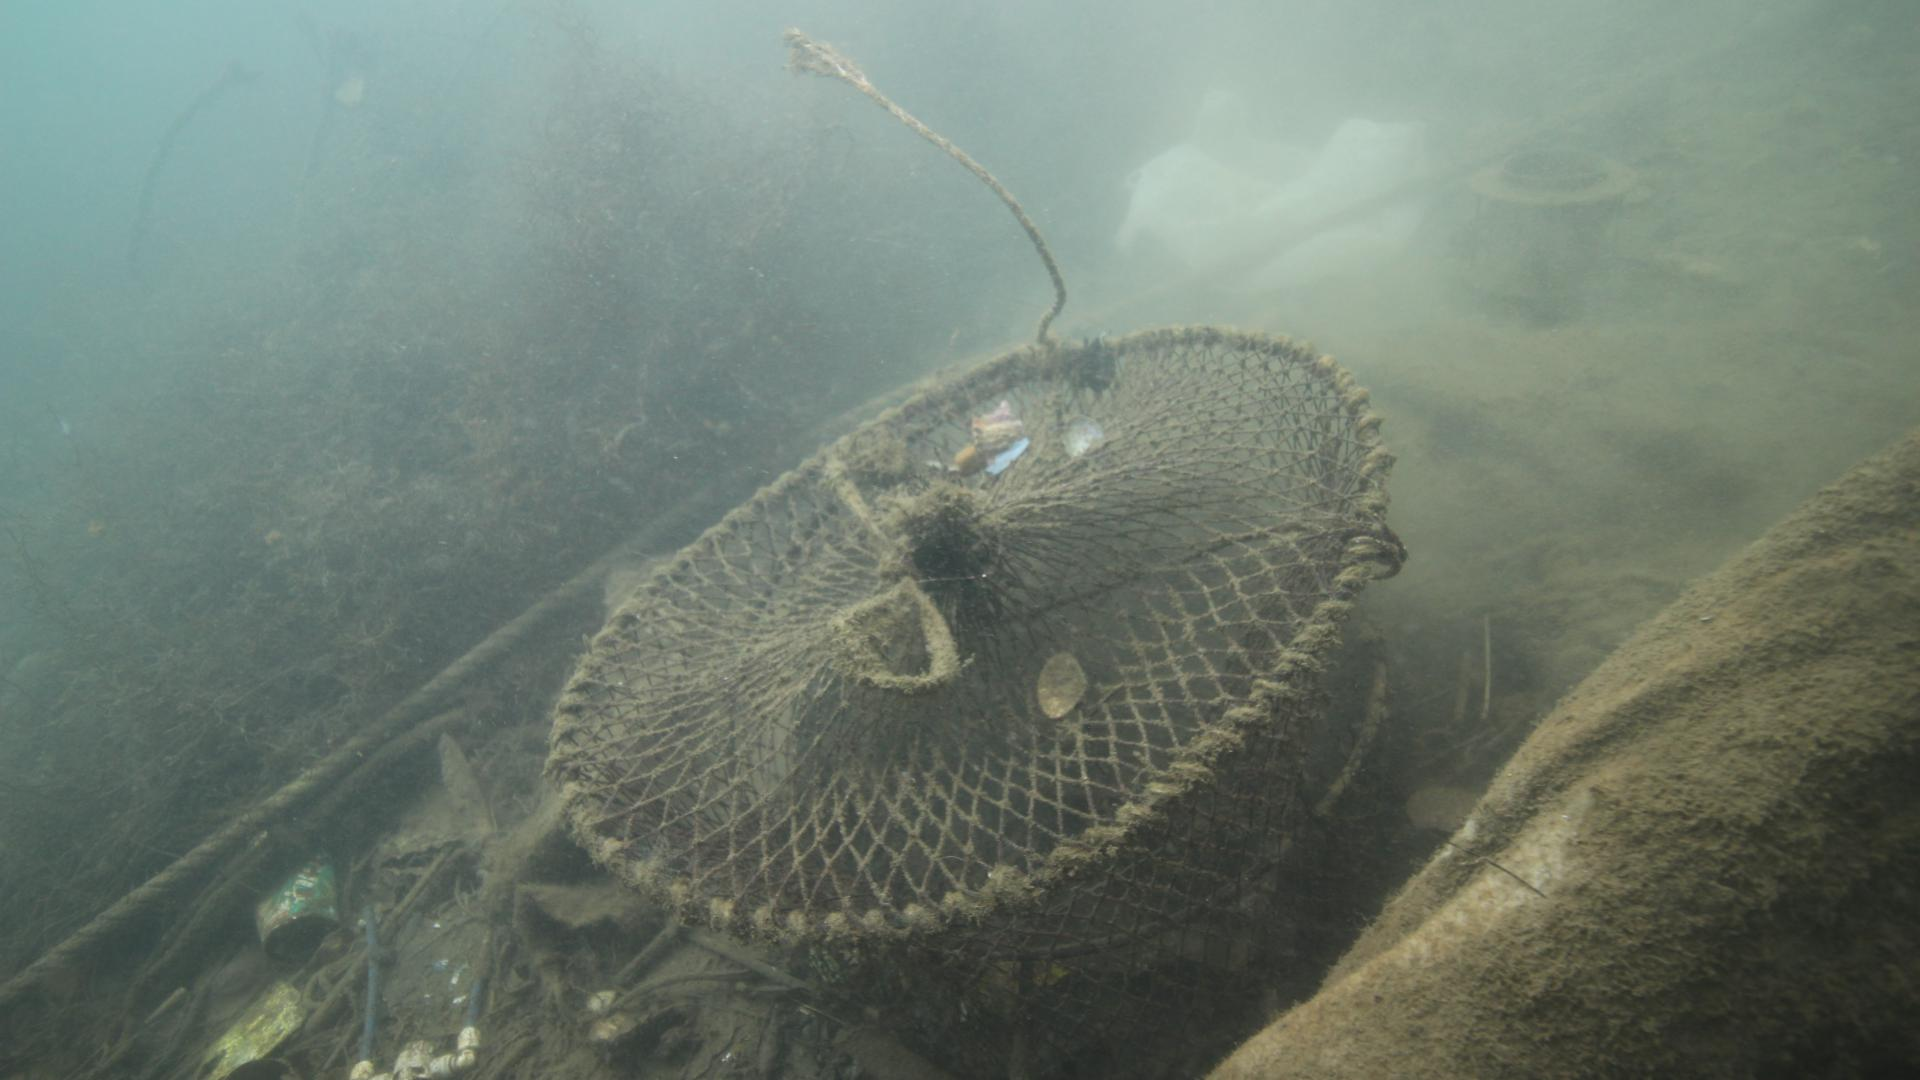circular fish trap: (547, 323, 1387, 1062)
rope: (0, 596, 549, 1015), (857, 79, 1065, 339)
